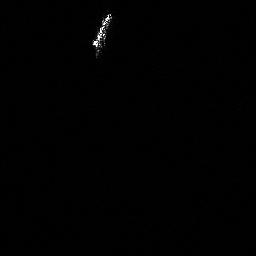ship: (89, 10, 114, 61)
